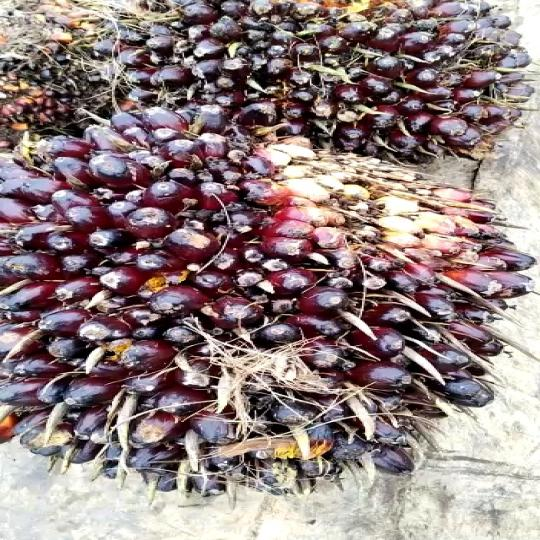kurang masak: (0, 93, 540, 491), (120, 0, 540, 153)
